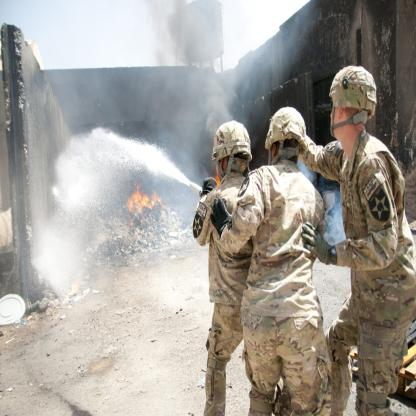Helmet: (329, 67, 380, 140), (214, 122, 258, 184), (264, 108, 307, 157)
